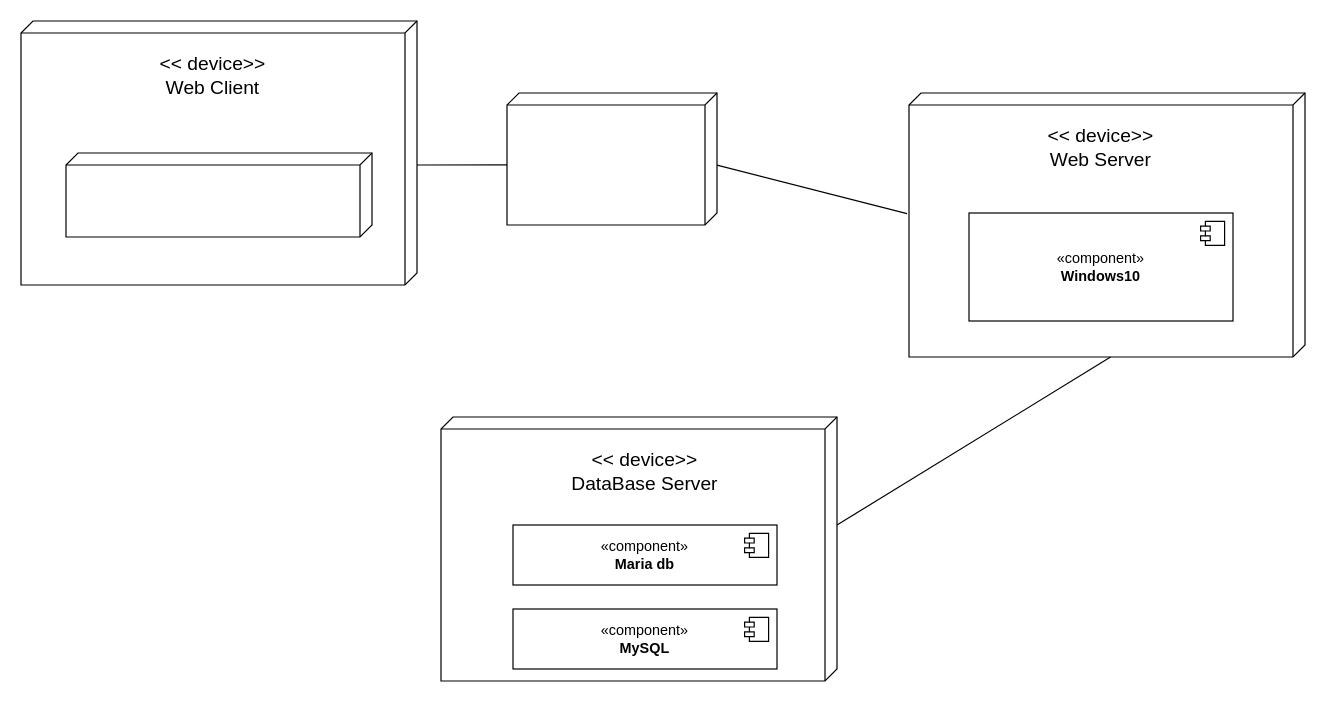
Some shapes in this 1326 by 702 pixel diagram are drawn without their labels. Here are the shapes that lost their labels. From the top down, the box of each, then its label:
(506, 92, 717, 225): <<device>> Firewall
(65, 152, 372, 237): << execution Environment >> web browser
